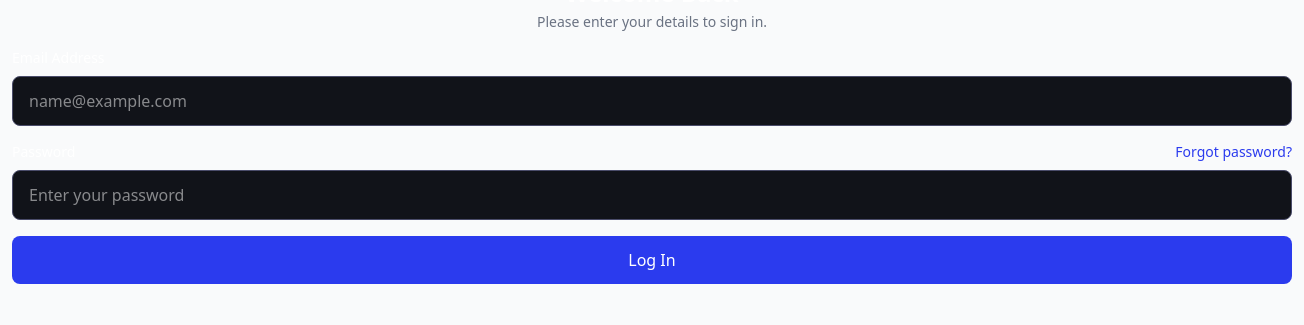
Test: LoginForm - Integration Tests › should validate password minimum length
The width and height of the screenshot is (1304, 325).
Type "test@example.com" into the field labelled "Email Address".
click(652, 101); type("test@example.com")  # box [12, 76, 1292, 126]
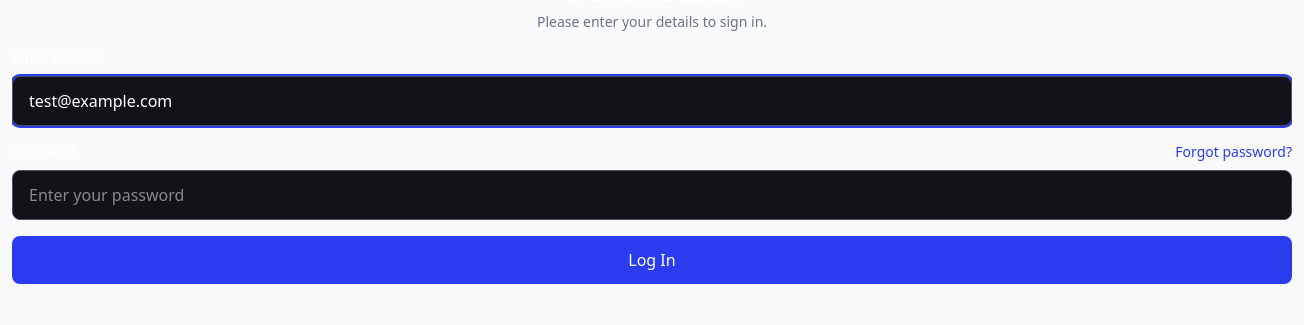
Type "123" into the password field labelled "Password".
click(652, 195); type("123")  # box [12, 170, 1292, 220]
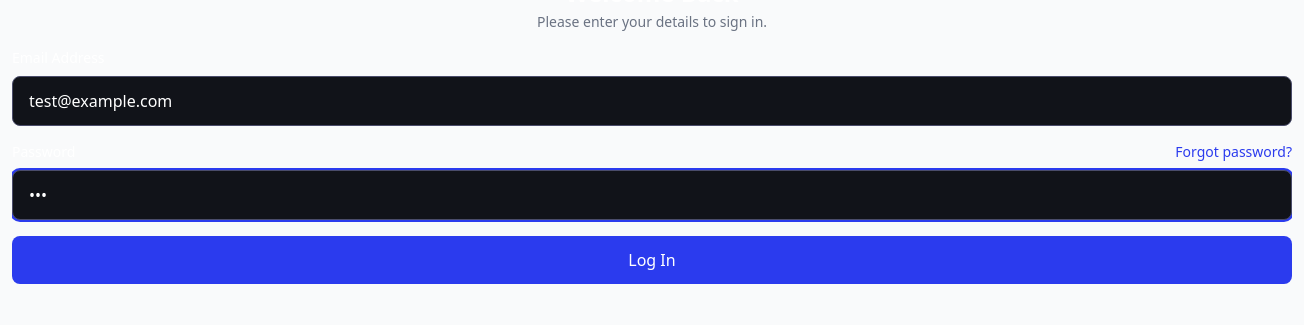
Click the button "Log In".
click(652, 260)  # box [12, 236, 1292, 284]
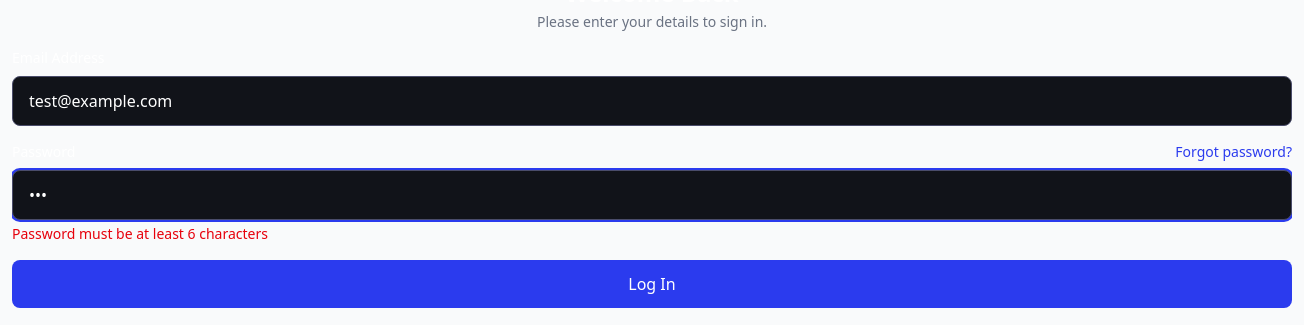
Result: the text "Password must be at least 6 characters" is shown at [12, 224, 268, 243]
